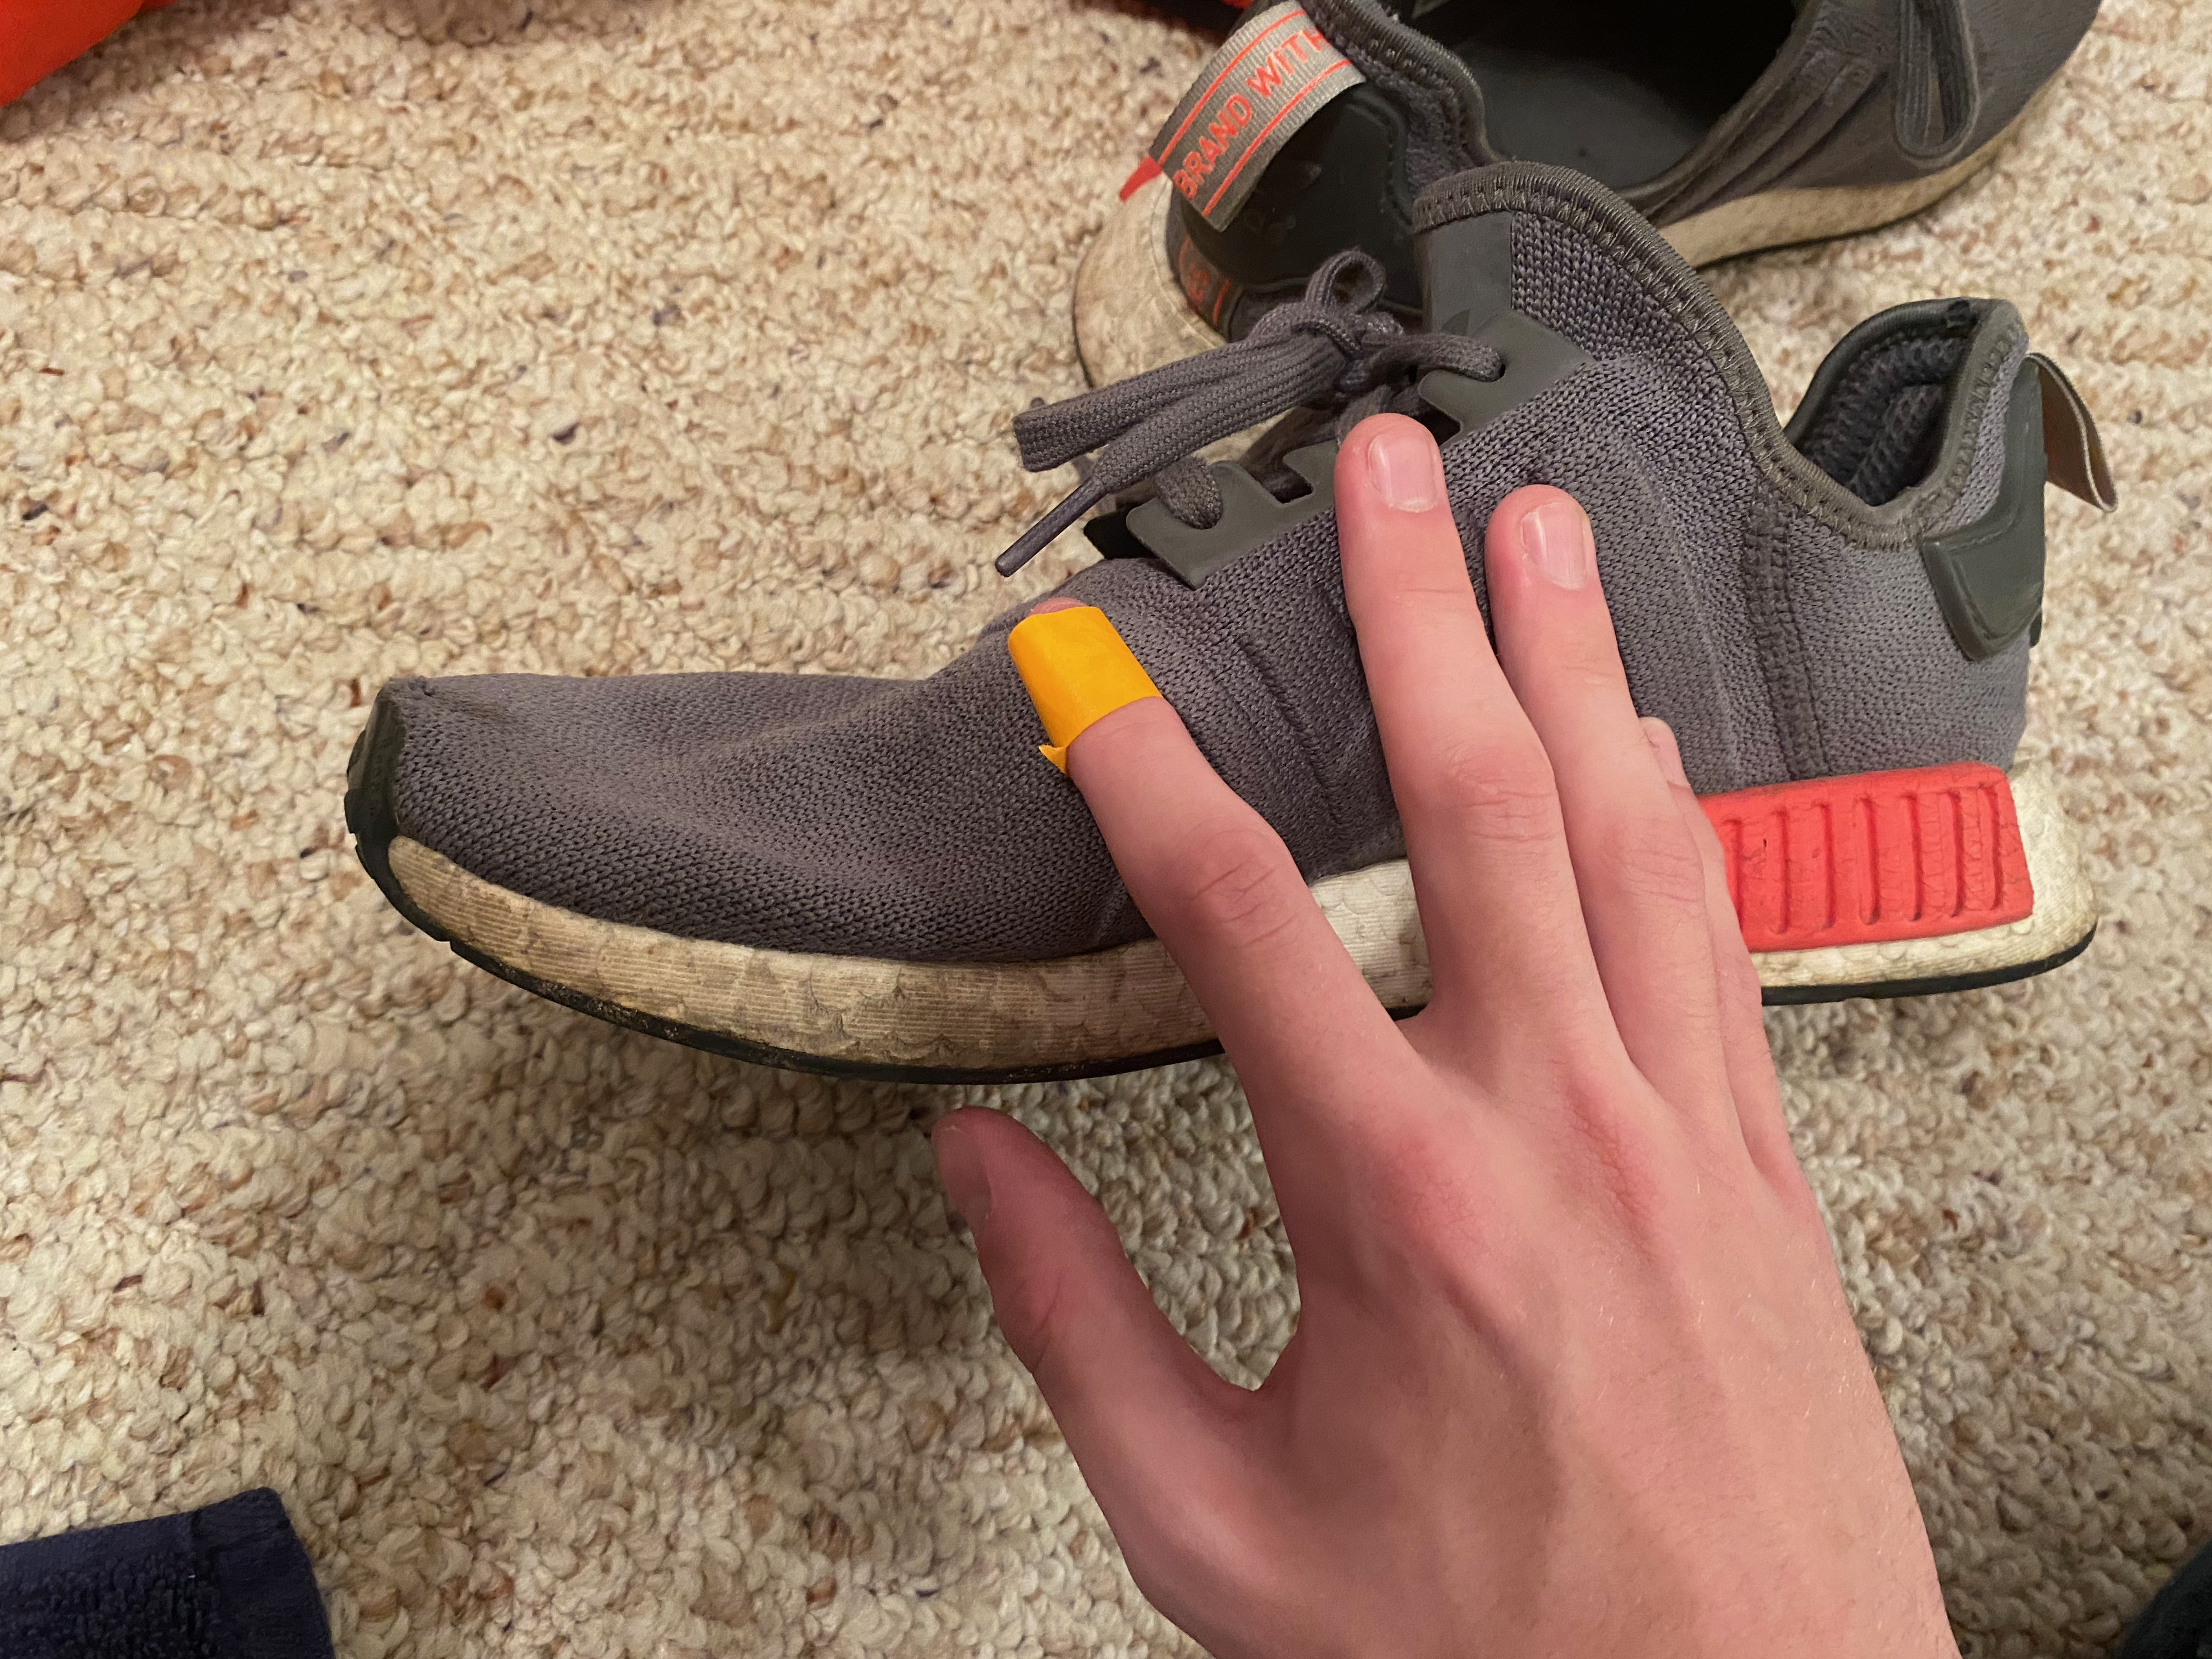fingertip: (986, 582, 1184, 791)
